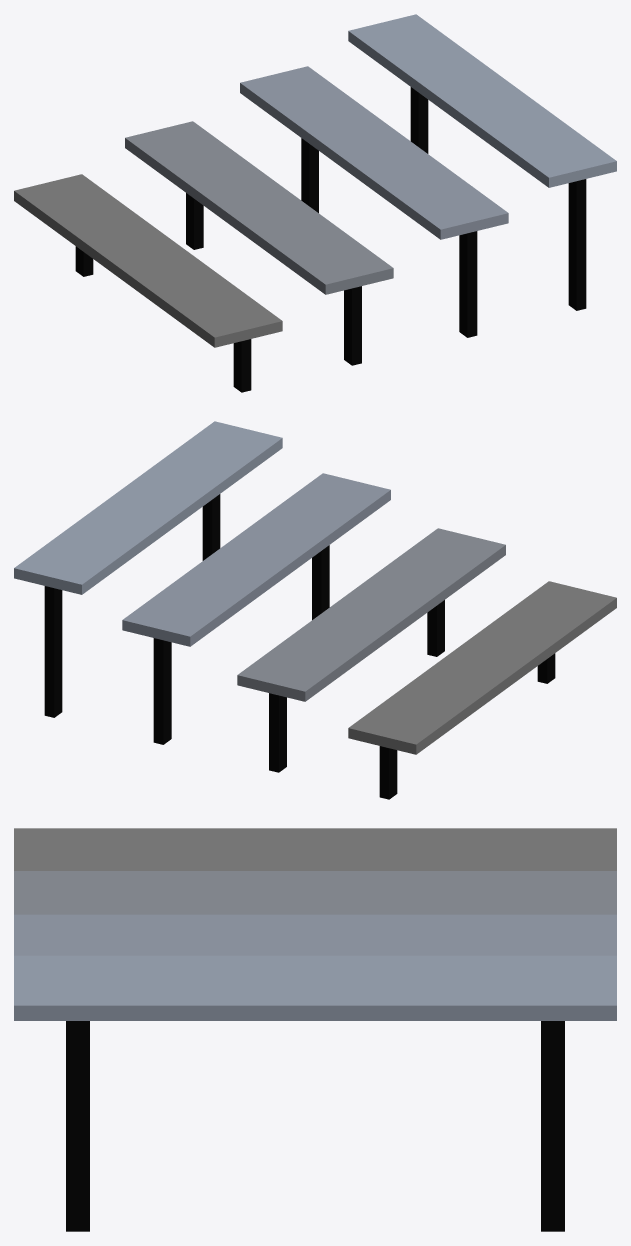
Rendered from STAND3.fbx.
The picture shows the model from 3 angles, top to bottom: view 1: azimuth 30°, elevation 25°; view 2: azimuth 150°, elevation 25°; view 3: azimuth 270°, elevation 25°; orthographic projection. The views are drawn at different scales.
Visible parts, largest first — view 1: 큐브.005, 큐브.003, 큐브.002, 큐브.004, 큐브.001; view 2: 큐브.005, 큐브.004, 큐브.002, 큐브.003, 큐브.001; view 3: 큐브.005, 큐브.002, 큐브.003, 큐브.004, 큐브.001.
Boxes of the visible parts, <box> form: 큐브.005: <box>348,14,616,187</box>; 큐브.003: <box>14,174,282,347</box>; 큐브.002: <box>125,121,393,294</box>; 큐브.004: <box>240,66,508,239</box>; 큐브.001: <box>75,87,586,392</box>; 큐브.005: <box>14,421,282,594</box>; 큐브.004: <box>122,473,390,646</box>; 큐브.002: <box>237,528,505,701</box>; 큐브.003: <box>348,581,616,754</box>; 큐브.001: <box>44,494,555,799</box>; 큐브.005: <box>14,955,616,1020</box>; 큐브.002: <box>14,871,616,914</box>; 큐브.003: <box>14,828,616,870</box>; 큐브.004: <box>14,914,616,955</box>; 큐브.001: <box>66,1021,564,1231</box>.
Bounding box in the file's own units: 1183 × 442 × 1022.
